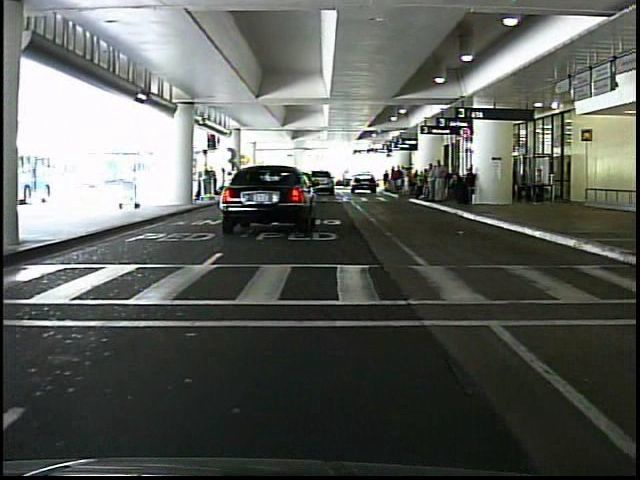person: (430, 155, 452, 207), (126, 165, 146, 210)
